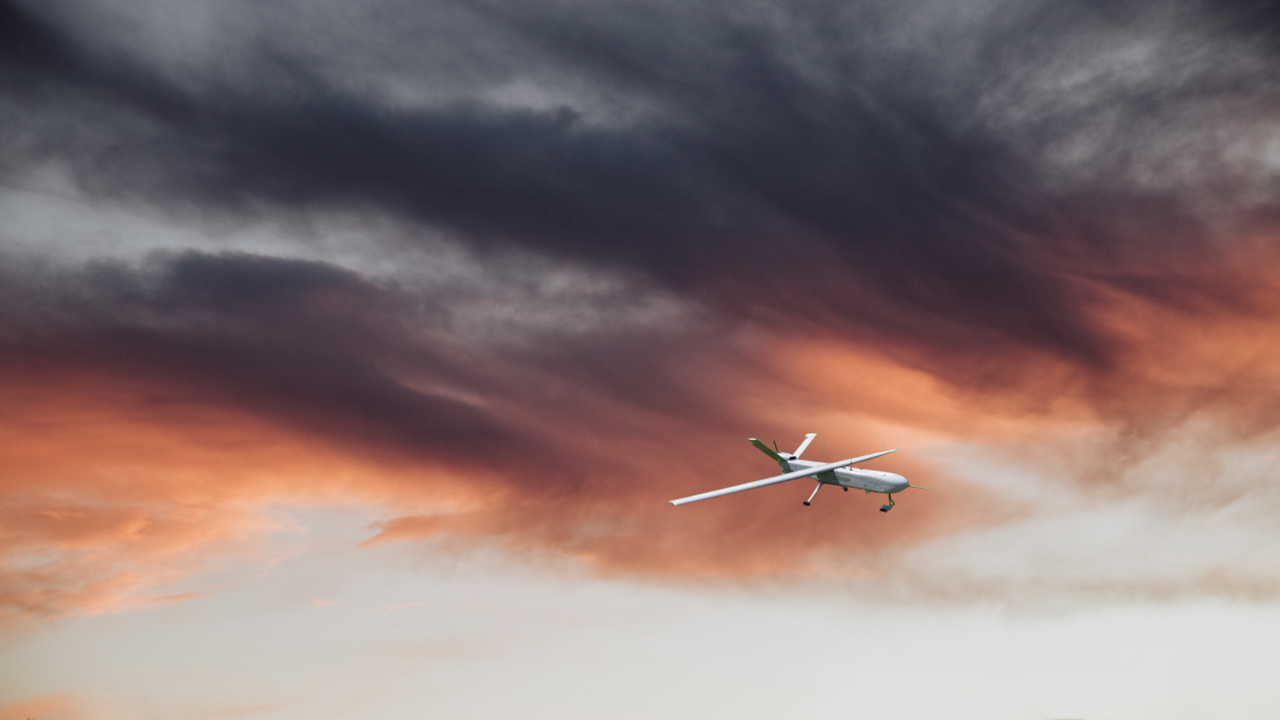military drone: (668, 432, 911, 513)
